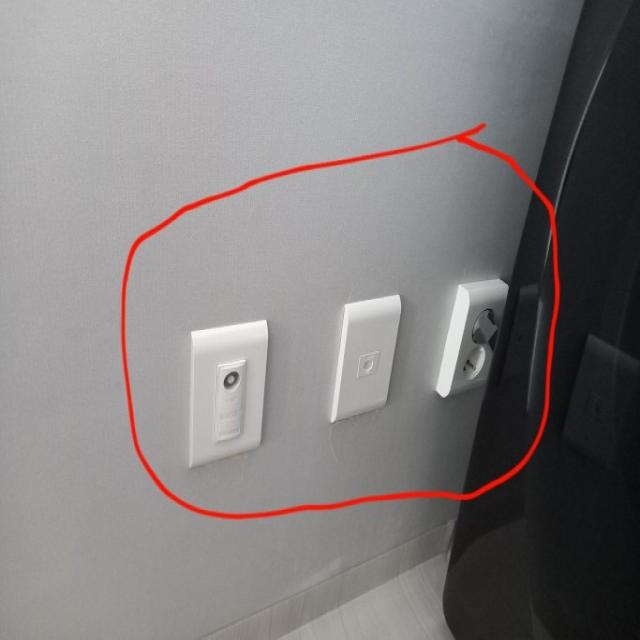typeb: (432, 249, 518, 415)
